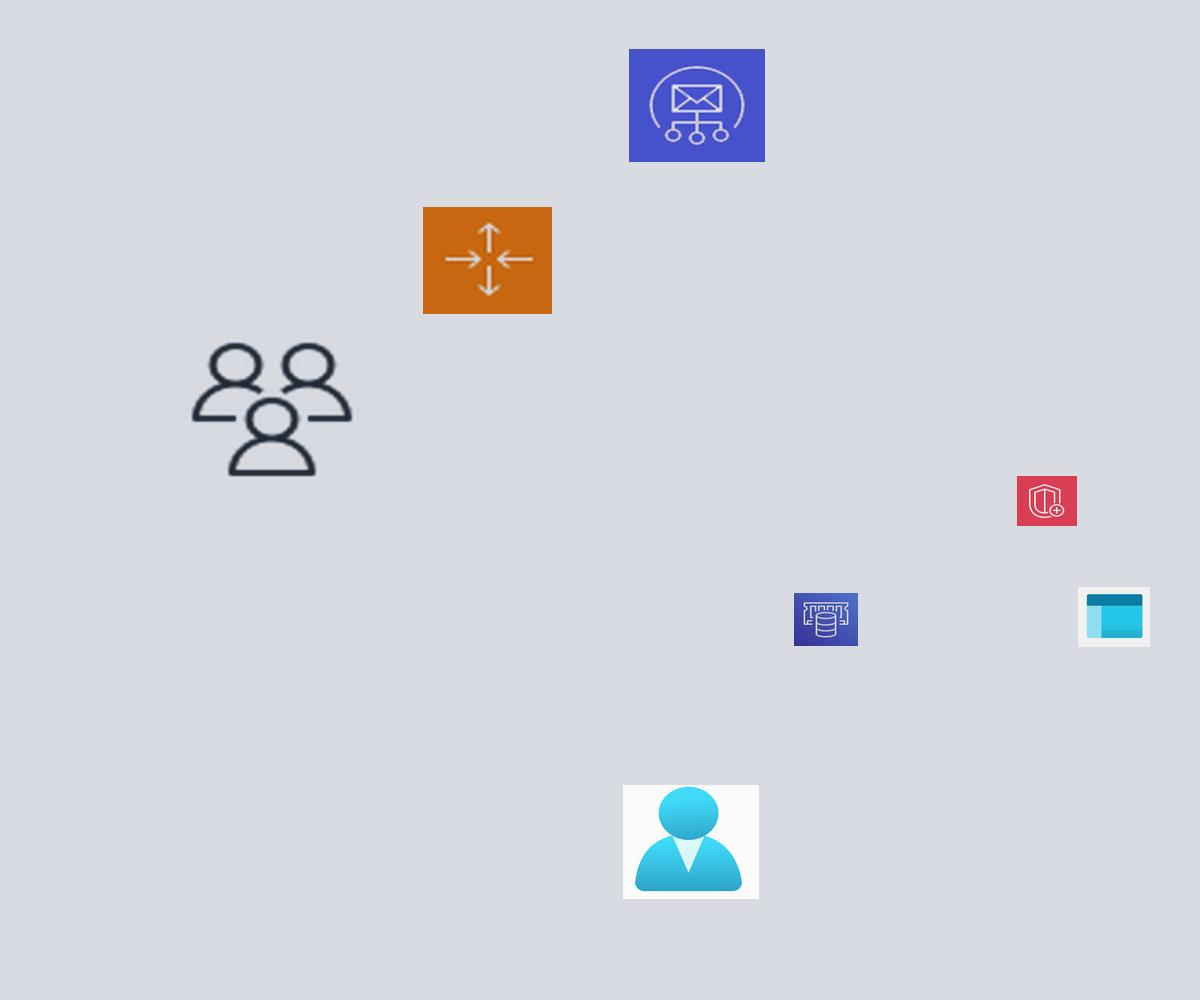AWS-ElastiCache: (794, 593, 858, 646)
AWS-Res_Users: (185, 337, 359, 482)
AWS-Scaling-group: (423, 207, 552, 314)
AWS-Shield: (1017, 476, 1077, 526)
AWS-Simple-Email-Service: (629, 49, 765, 162)
Azure_management-portal: (1078, 587, 1150, 647)
Azure_users: (623, 785, 759, 899)
